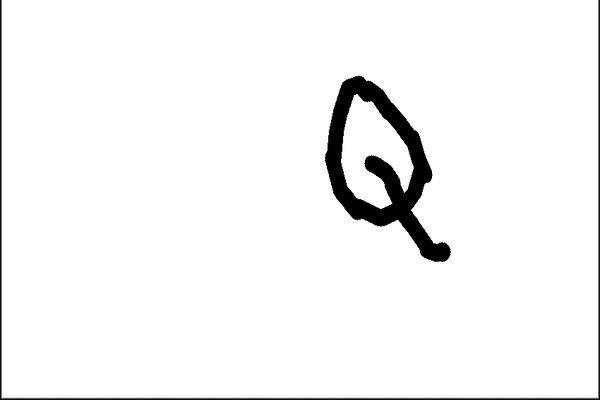Q: (314, 63, 472, 274)
